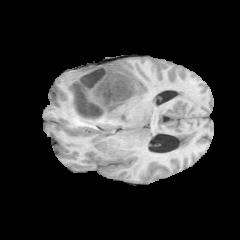glioma: (63, 63, 192, 147)
